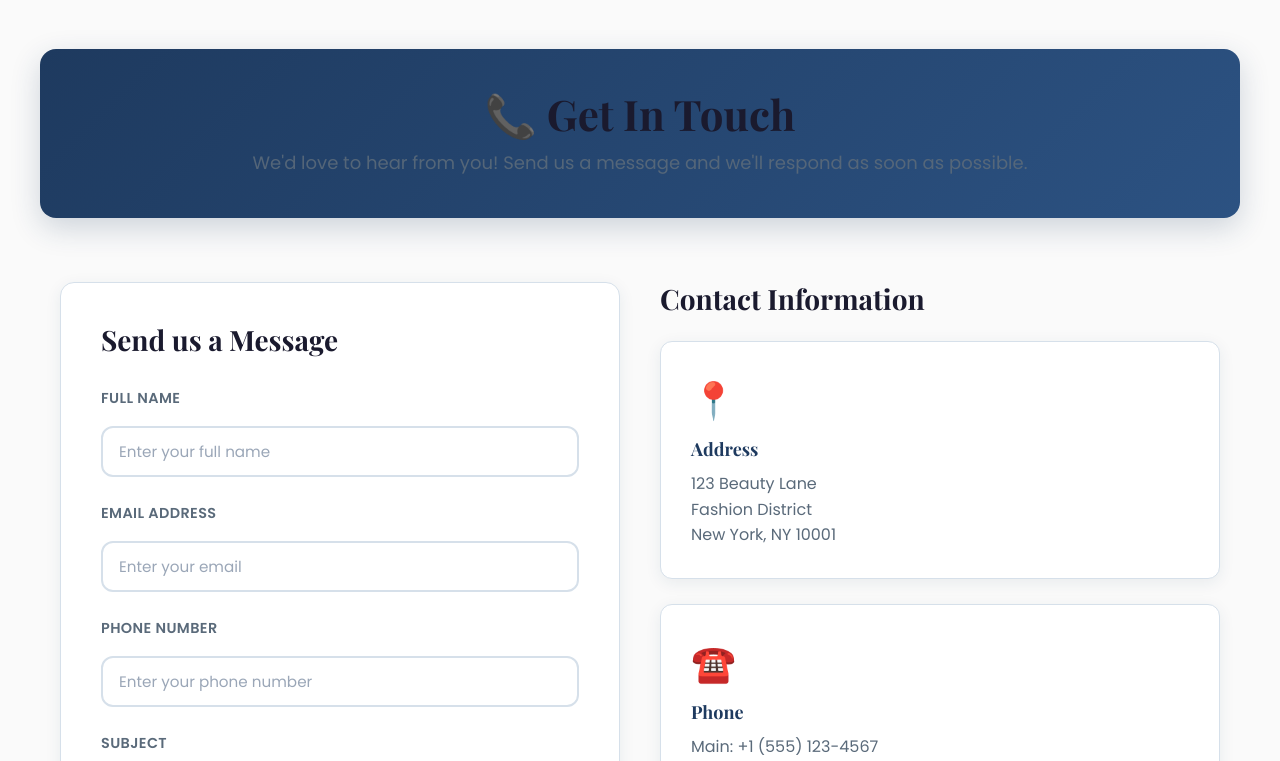
Test: ContactUs page › shows warning toast when any field is empty on submit
In the field with placeholder "Enter your full name": (340, 451) [101,426,579,477], type "Jane"
(page scrolled)
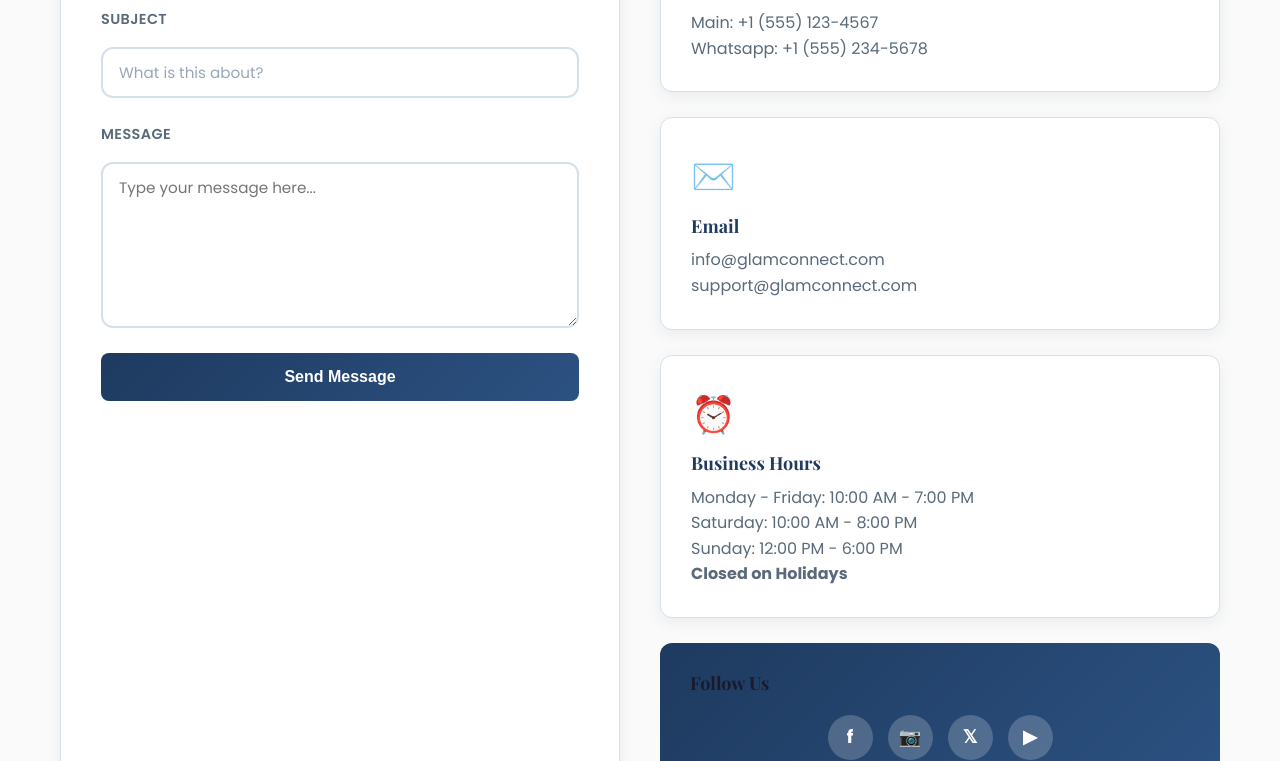
// email, phone, subject, message left empty
Click the button "Send Message": (340, 377) [101,353,579,401]
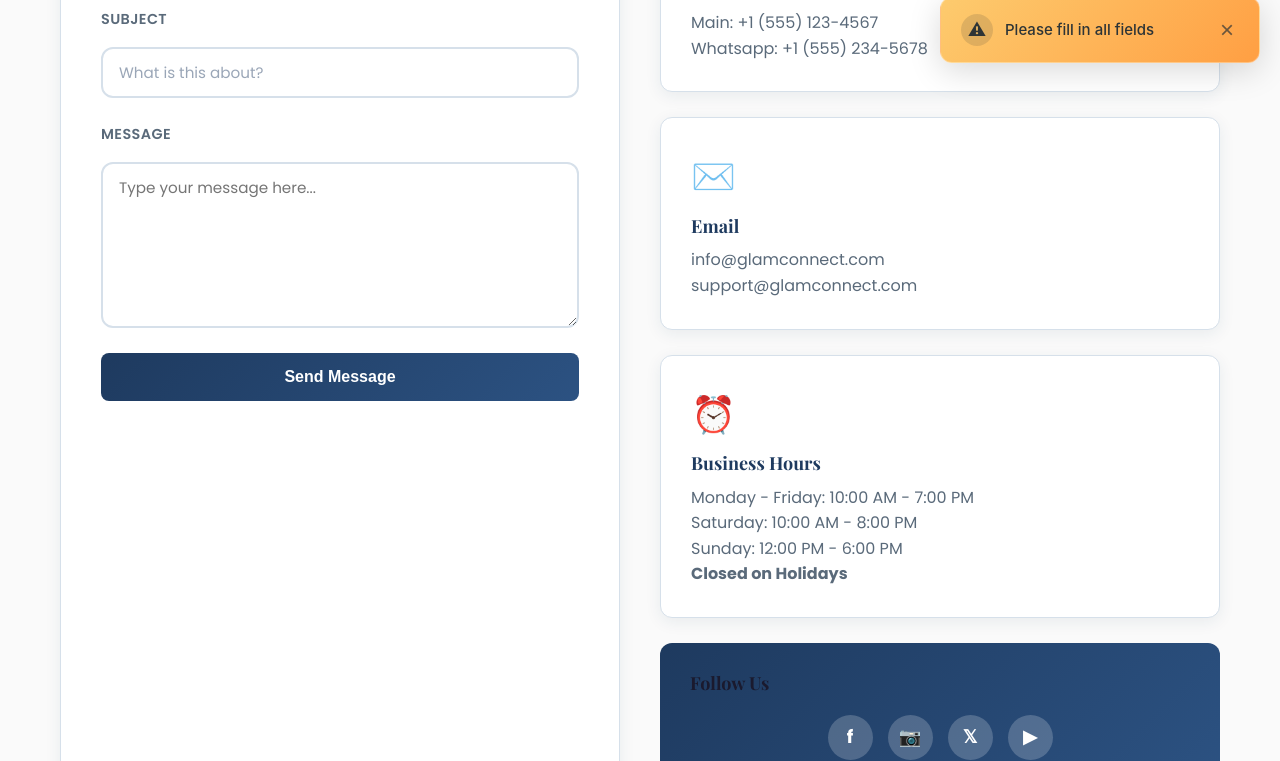
Result: the text "Please fill in all fields" is shown at [1005,20,1154,39]
